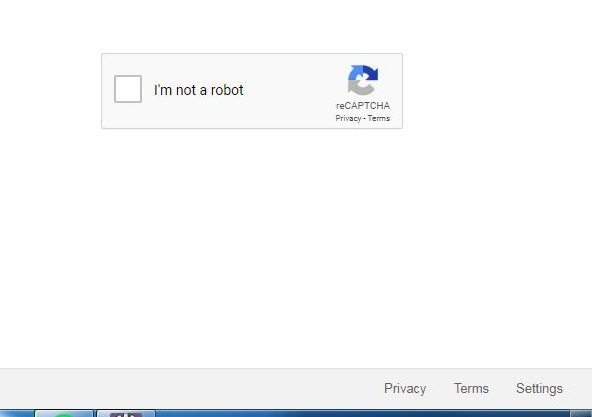captcha: (114, 75, 247, 103)
